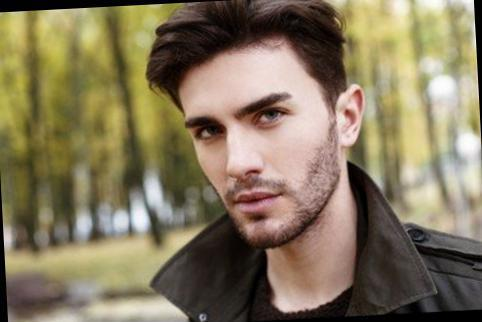Sober: (186, 66, 333, 222)
